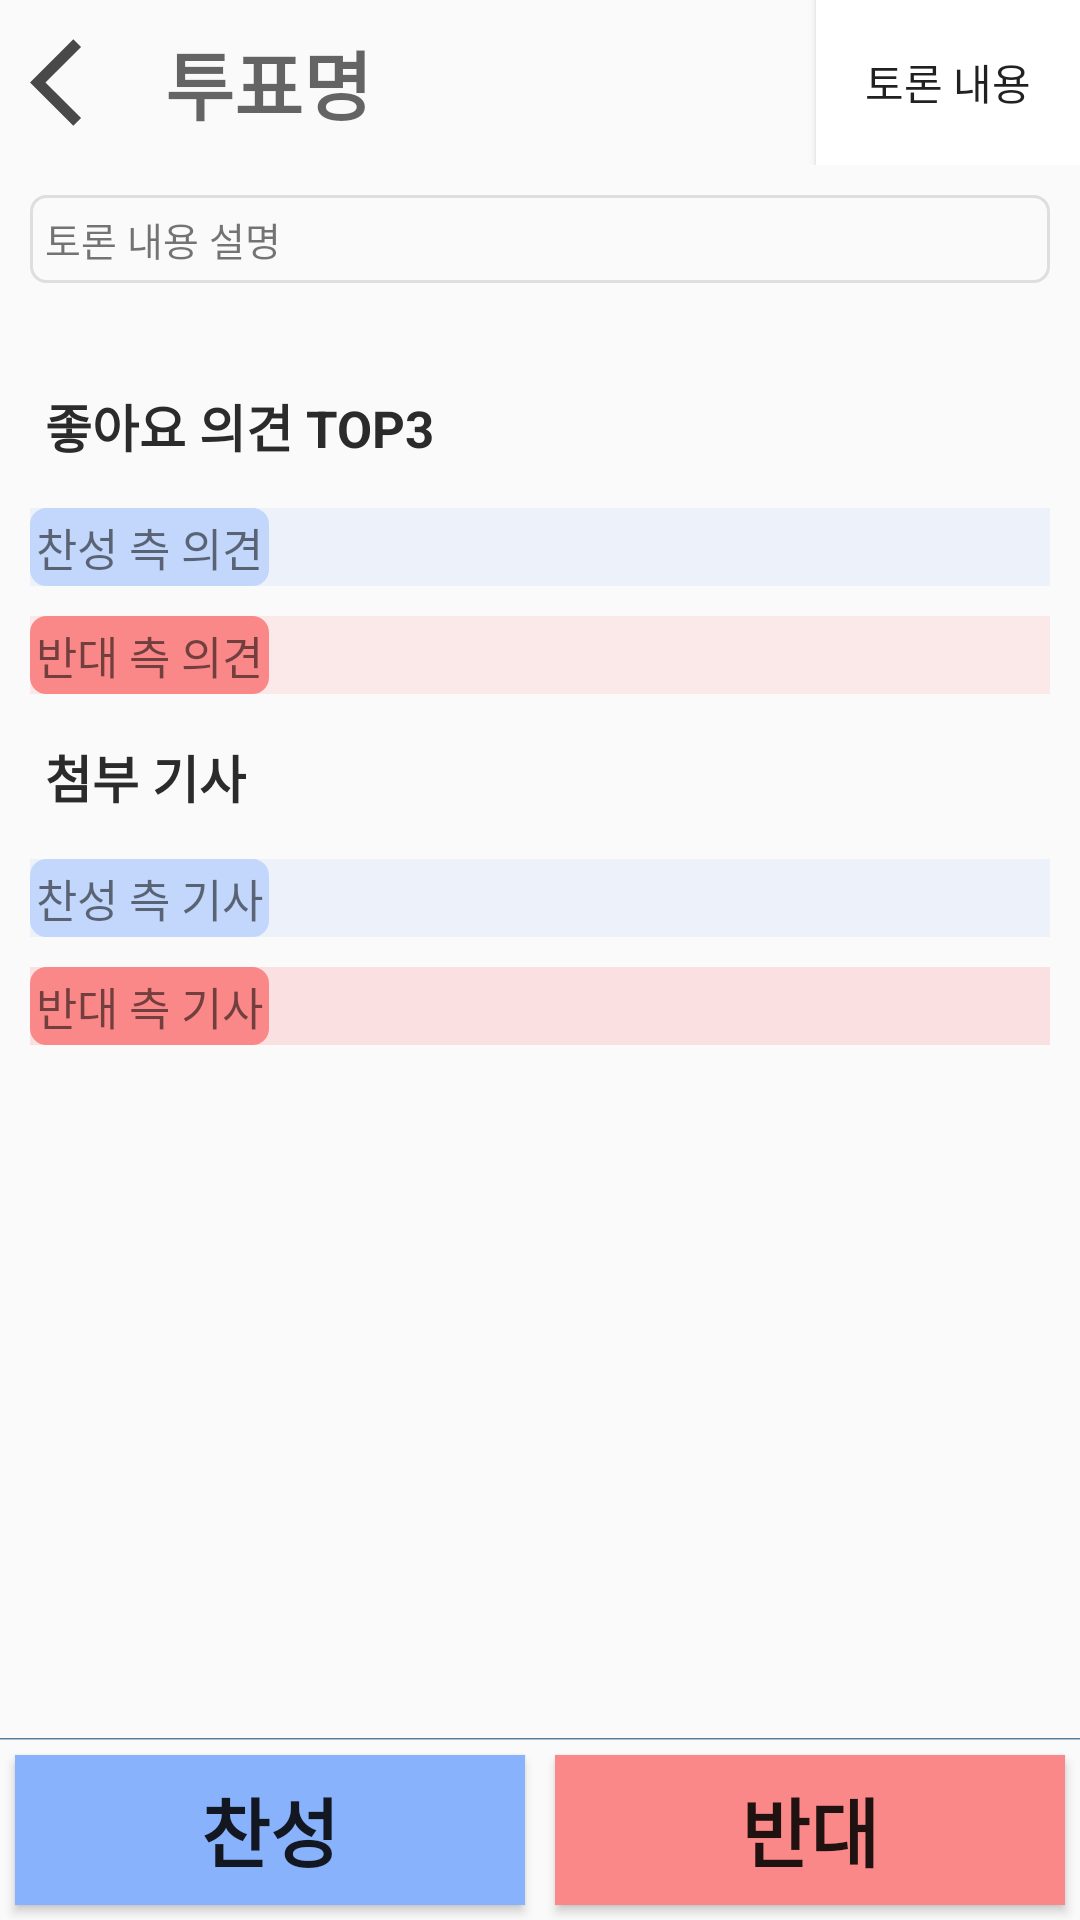

Icons on this 1080×1920 Android screen, each with its box as box=[x1, y1, x2, y2]:
arrow back: box=[30, 39, 81, 126]
